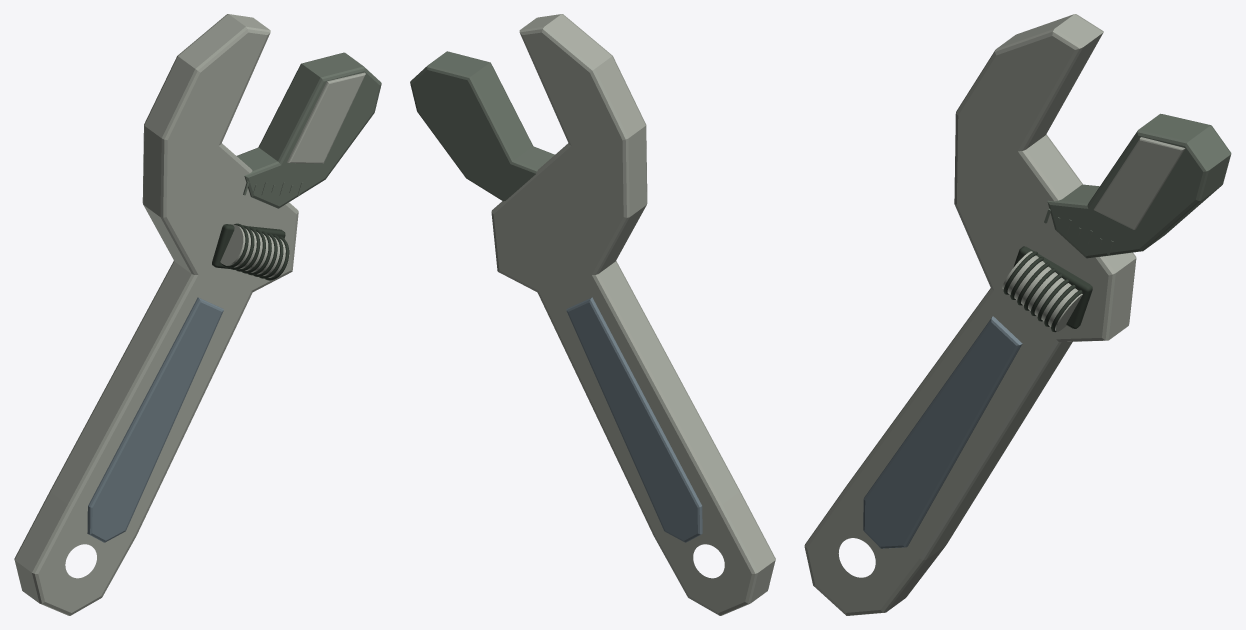
The model's file is plant-spanner.glb.
3 views of the same model, side by side, from view 1: azimuth 30°, elevation 25°; view 2: azimuth 150°, elevation 25°; view 3: azimuth 330°, elevation 25° (orthographic). The views are drawn at different scales.
Visible parts, largest first — view 1: plant-spanner; view 2: plant-spanner; view 3: plant-spanner.
Boxes of the visible parts, bbox=[...] form: plant-spanner: bbox=[14, 14, 381, 615]; plant-spanner: bbox=[410, 14, 775, 615]; plant-spanner: bbox=[804, 14, 1231, 615].
Bounding box in the file's own units: 1.28 × 1.91 × 0.2615.
